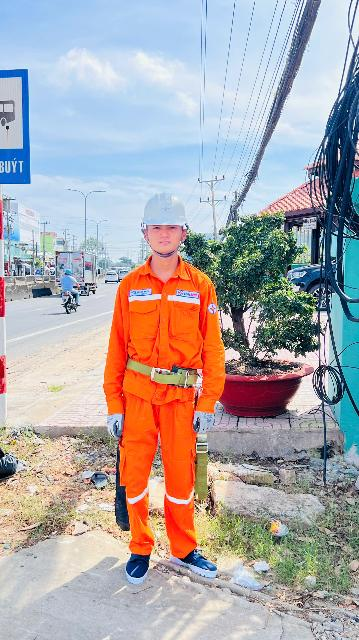gloves: (185, 398, 228, 436), (103, 410, 138, 440)
harness: (114, 353, 196, 398)
helmet: (137, 190, 199, 230)
shoes: (167, 543, 222, 582), (118, 540, 162, 585)
